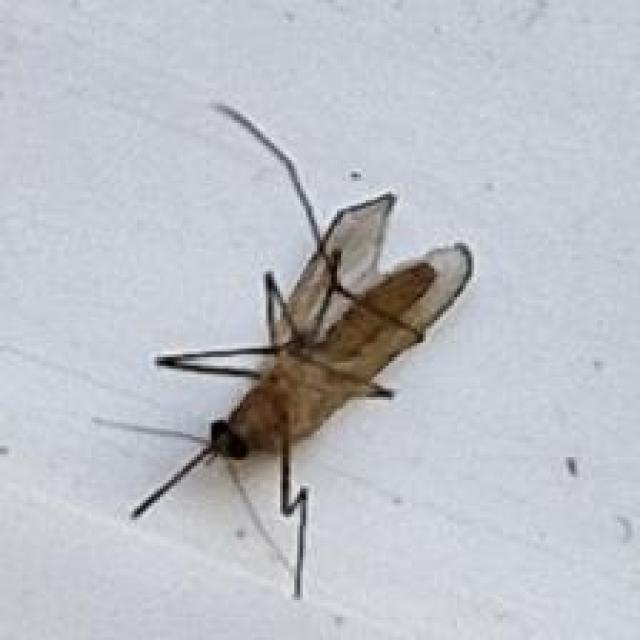Culex: (92, 100, 474, 600)
